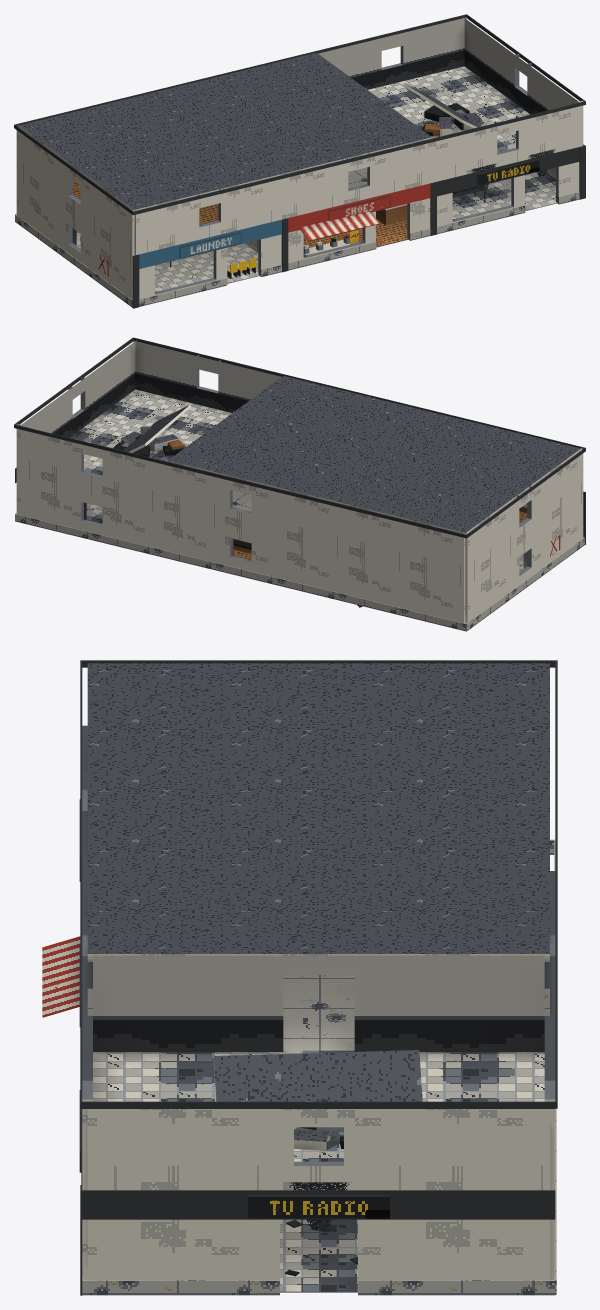
Rendered from shops.glb.
3 renders of one model, top to bottom at view 1: azimuth 30°, elevation 25°; view 2: azimuth 150°, elevation 25°; view 3: azimuth 270°, elevation 25°, orthographic. The views are drawn at different scales.
Parts seen in each view (by area): view 1: shops; view 2: shops; view 3: shops.
Part boxes in pixels (box(x1,y1,x2,y2)): shops: box(14, 14, 585, 308); shops: box(14, 337, 585, 631); shops: box(42, 660, 557, 1295).
Bounding box in the file's own units: 29.44 × 6.29 × 14.49.
Materials: 27 (27 with a texture image).
